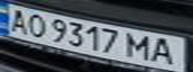1: (81, 24, 103, 52)
3: (63, 20, 84, 48)
7: (100, 26, 124, 55)
9: (45, 16, 69, 44)
A: (148, 35, 184, 65), (3, 6, 33, 34)
M: (127, 32, 157, 61)
O: (21, 11, 48, 38)
